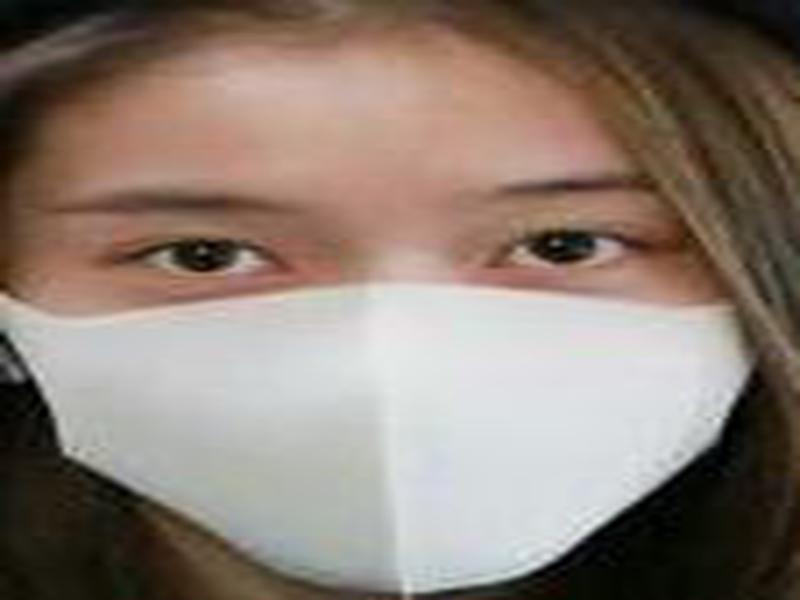with_mask: (1, 40, 768, 600)
